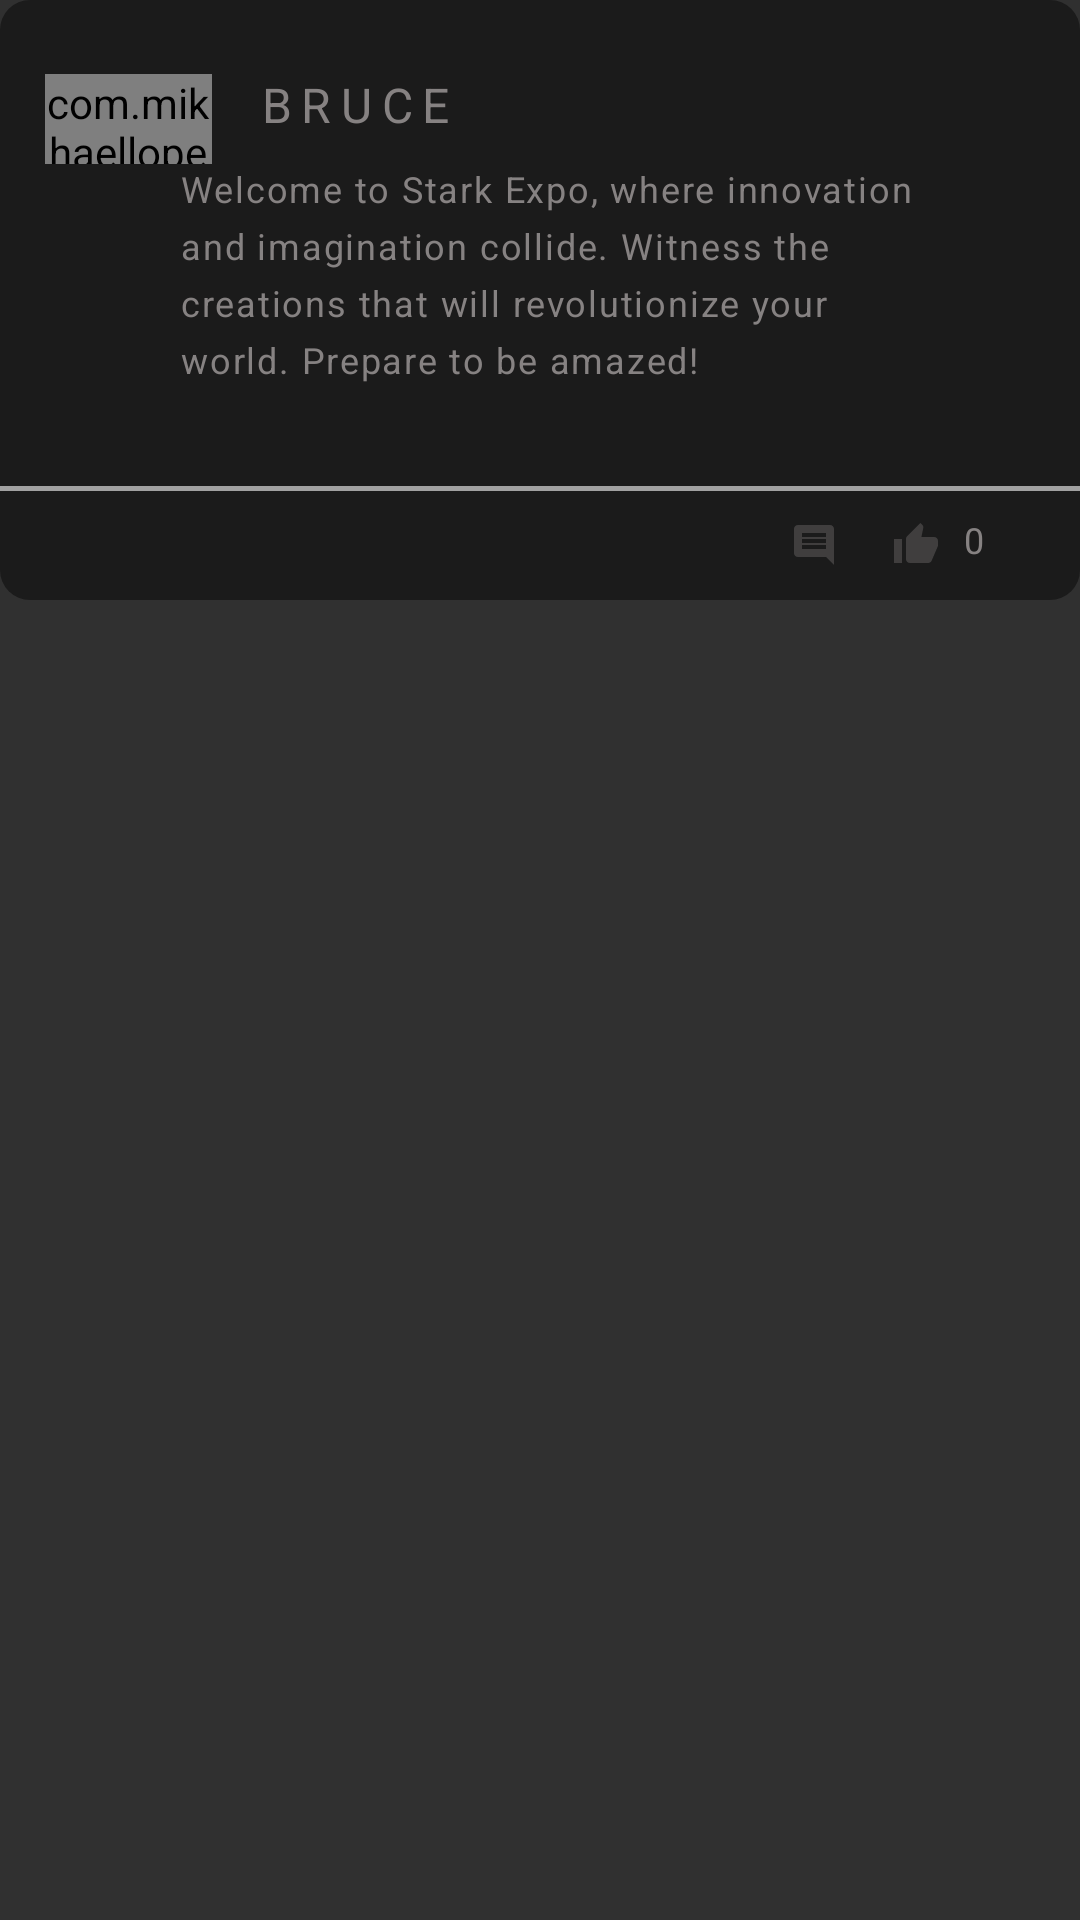

Locate icon controls on the screen. Image size 1080w x 1920h, boxes as [x1=x1, y1=y1, x2=x2, y2=y2].
comment: [x1=794, y1=525, x2=834, y2=564]
thumb up neutral: [x1=894, y1=523, x2=938, y2=563]
